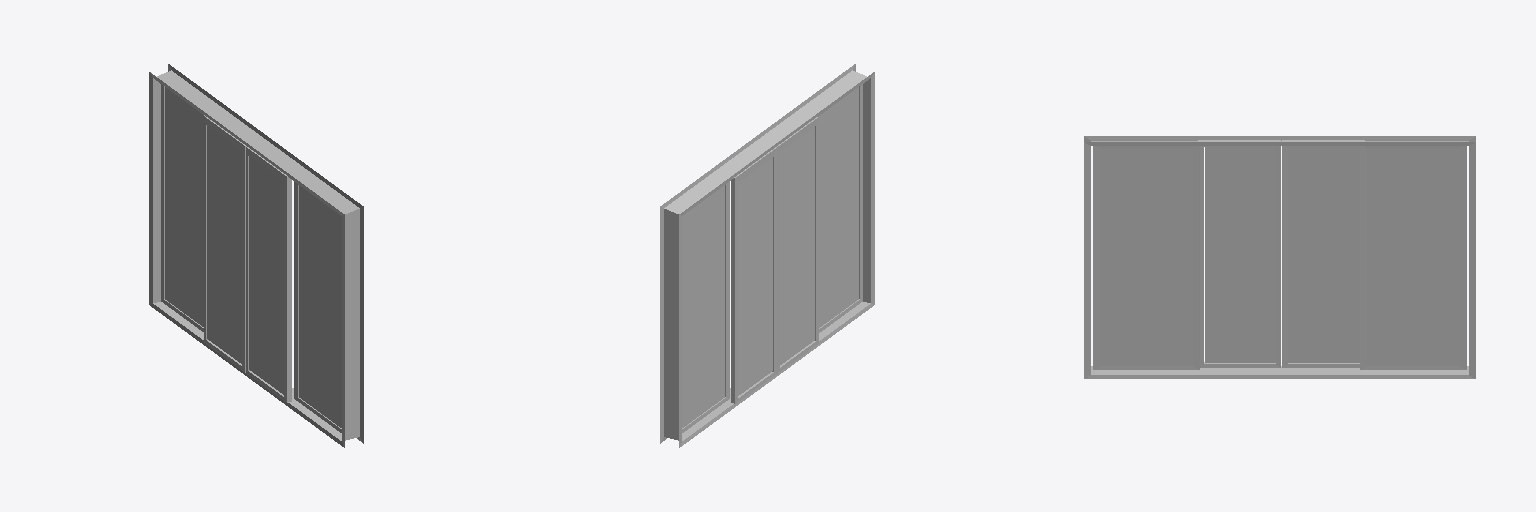
File: Buildings03_Glass door.obj
The picture shows the model from 3 angles: view 1: azimuth 30°, elevation 25°; view 2: azimuth 150°, elevation 25°; view 3: azimuth 270°, elevation 25°; orthographic projection.
Parts seen in each view (by area): view 1: Cube.000_Cube.004, Cube.003_Cube.009; view 2: Cube.000_Cube.004, Cube.003_Cube.009; view 3: Cube.000_Cube.004, Cube.003_Cube.009.
Boxes of the visible parts, x1,y1,x2,y2 form: Cube.000_Cube.004: [149, 64, 363, 447]; Cube.003_Cube.009: [204, 114, 291, 402]; Cube.000_Cube.004: [660, 64, 874, 447]; Cube.003_Cube.009: [731, 117, 818, 404]; Cube.000_Cube.004: [1084, 136, 1475, 378]; Cube.003_Cube.009: [1198, 140, 1364, 367].
Size of the model in its own units: 0.2647 by 3.01 by 4.5.